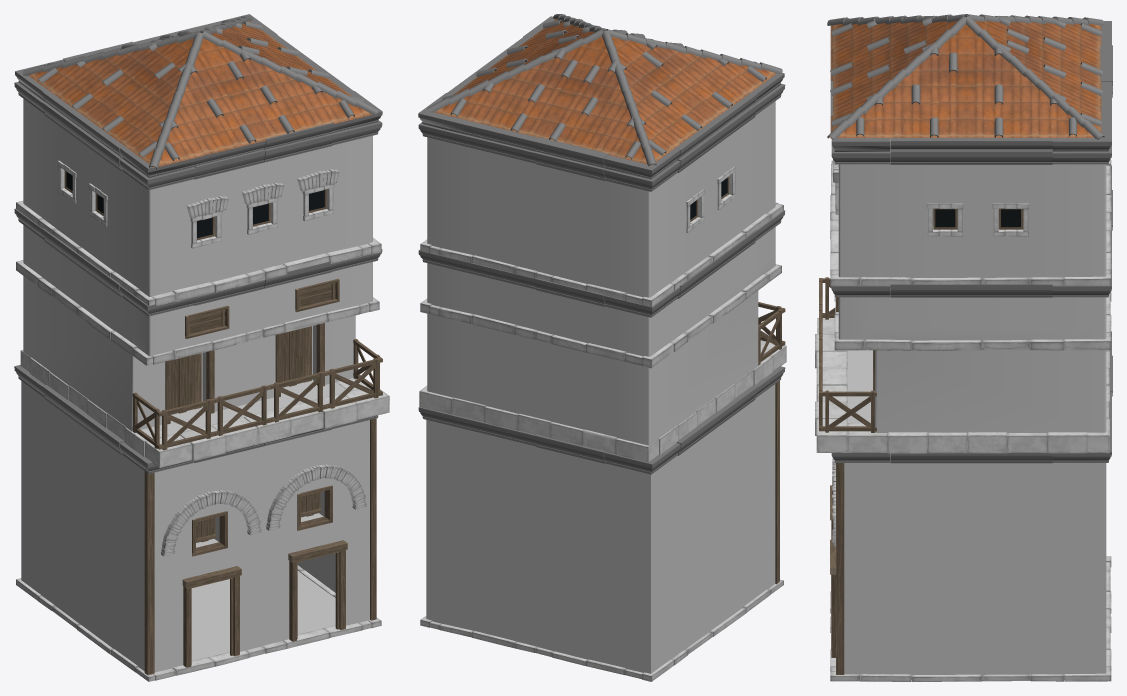
File: SM_insulae_building_05.fbx
The picture shows the model from 3 angles, left to right: view 1: azimuth 30°, elevation 25°; view 2: azimuth 150°, elevation 25°; view 3: azimuth 270°, elevation 25°; orthographic projection. The views are drawn at different scales.
Parts seen in each view (by area): view 1: Box294; view 2: Box294; view 3: Box294.
Boxes of the visible parts, x1,y1,x2,y2 form: Box294: [14, 14, 389, 681]; Box294: [418, 14, 786, 681]; Box294: [815, 14, 1112, 681].
Bounding box in the file's own units: 309 × 717 × 319.
